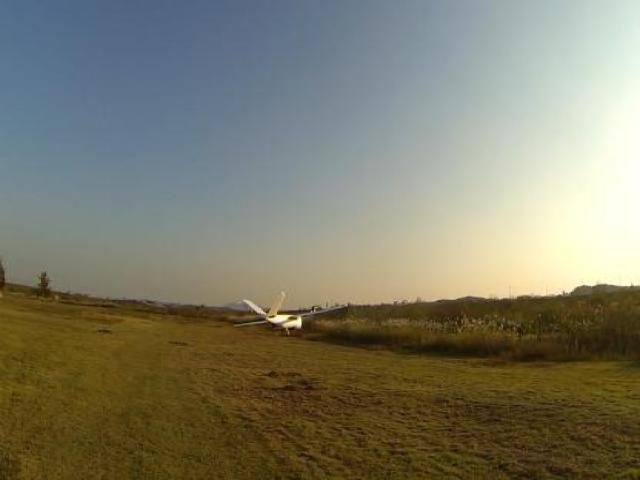uav: (224, 288, 354, 342)
